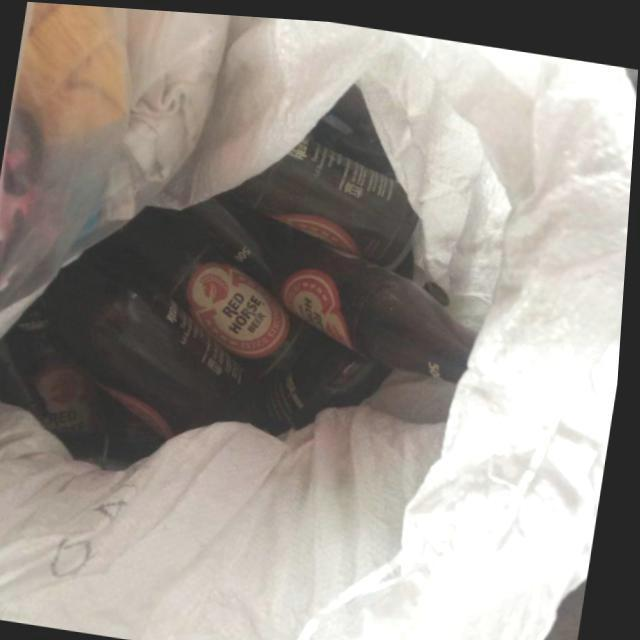glass_bottle: (66, 267, 258, 429), (127, 218, 313, 375), (282, 236, 480, 376), (234, 135, 420, 261), (270, 338, 397, 426), (423, 274, 454, 300)
